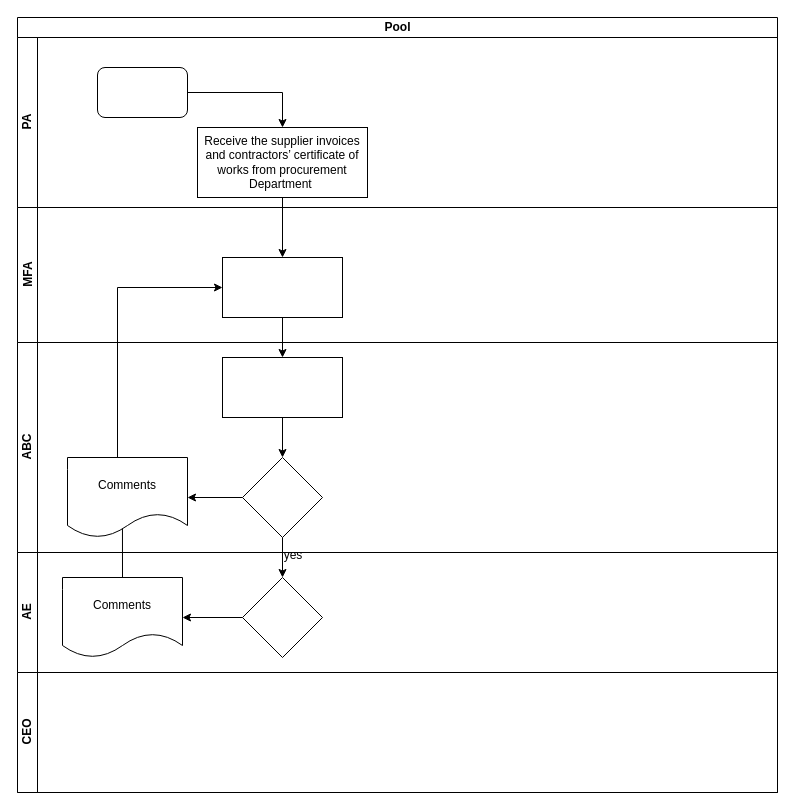
Some shapes in this 795 by 810 pixel diagram are drawn without their labels. The shapes that lost their labels are listed below. From the top down, each one's centre as x and y in pixels, then its label:
At point 142,92: "Start".
At point 282,287: "Validate and authorize raising of PV and PA raises PV".
At point 282,387: "Confirms availability of funds as per vote book".
At point 282,497: "Funds available?".
At point 282,617: "Valid?".
